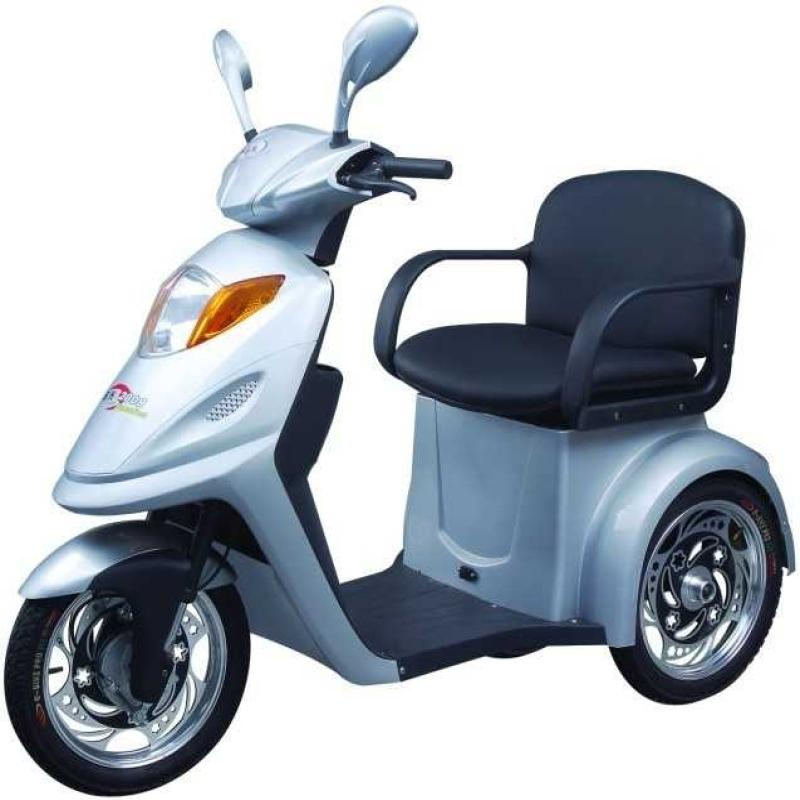bike: (14, 16, 800, 800)
